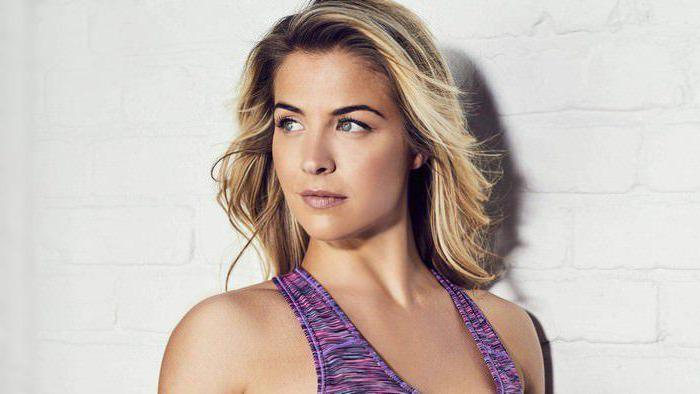Sober: (271, 53, 404, 237)
